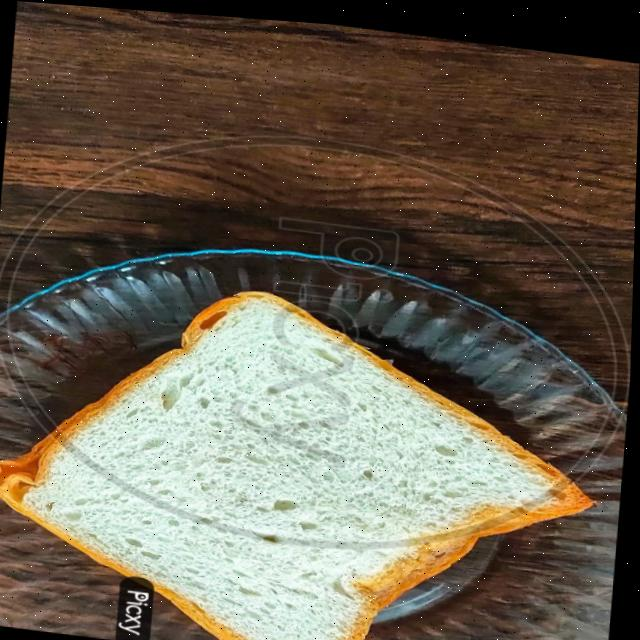Bread: (0, 287, 595, 640)
